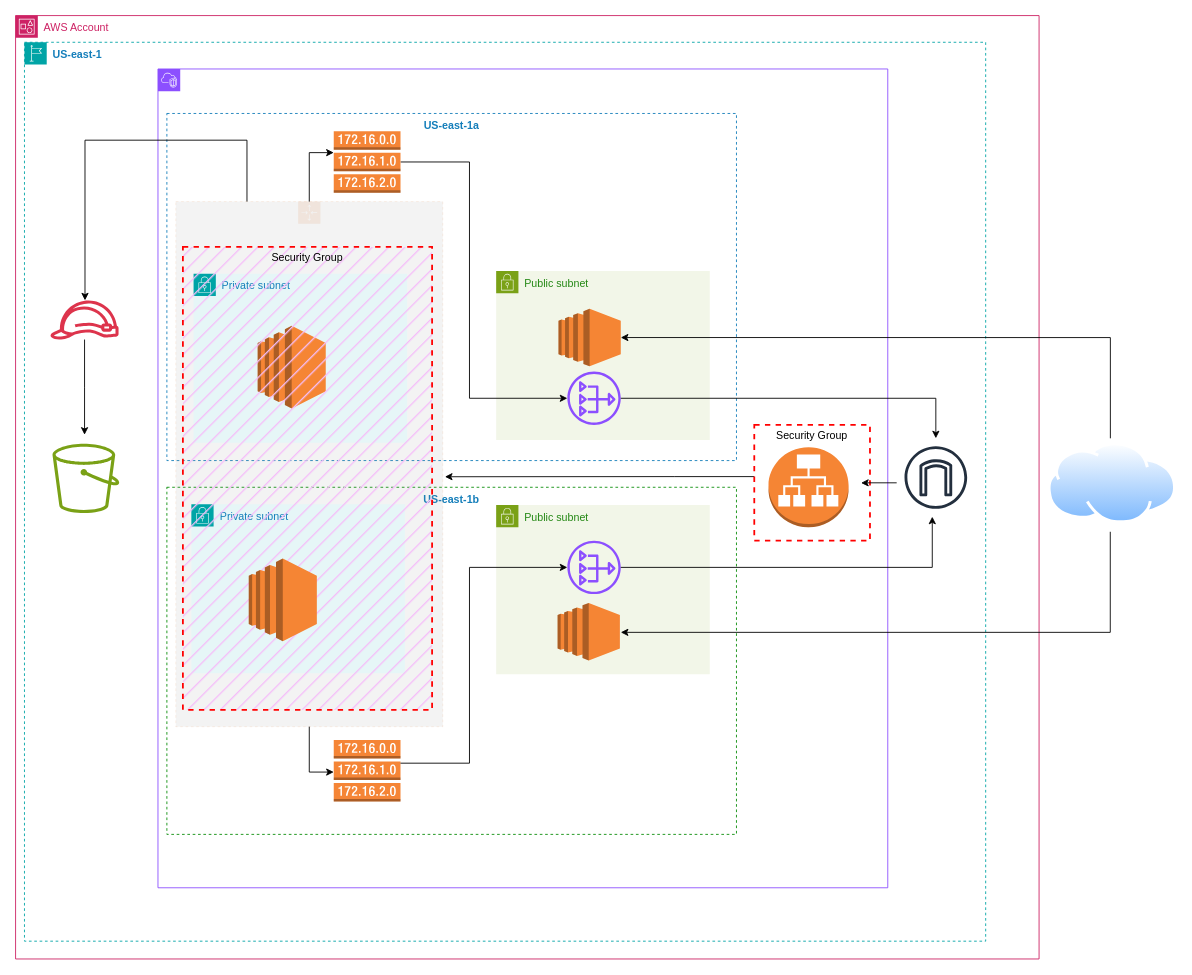
Some shapes in this 1192 by 975 pixel diagram are drawn without their labels. The box of each missing label's shape, as (x1, y1, x2, y2) in pixels:
Auto Scaling group: (175, 201, 443, 727)
VPC: (157, 68, 888, 888)
